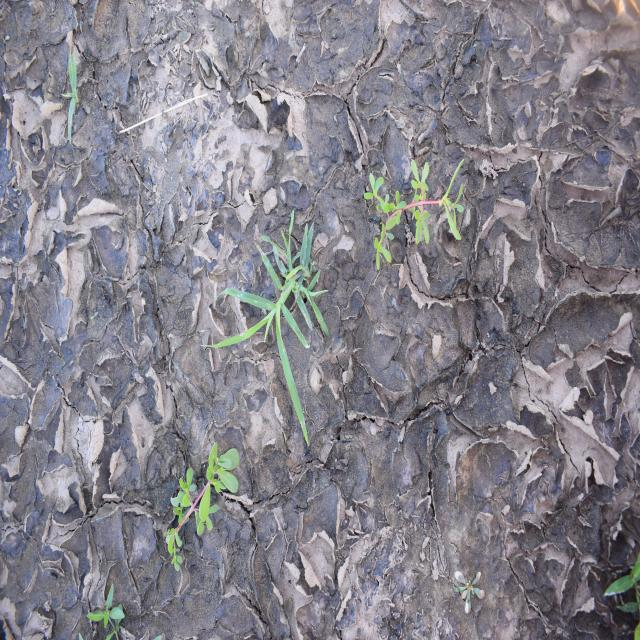Goosegrass: (201, 209, 330, 448), (61, 48, 79, 146)
Purslane: (362, 157, 466, 271), (164, 441, 241, 573)
